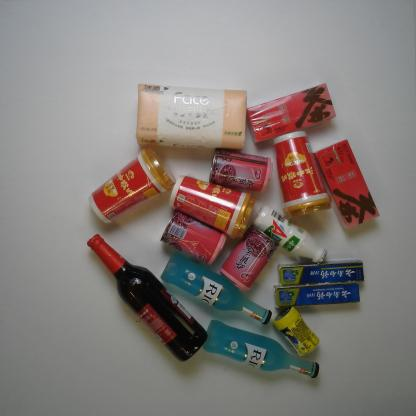Alcohol: (86, 233, 209, 364), (160, 250, 272, 326), (202, 318, 320, 380)
Canned Food: (218, 223, 281, 293), (159, 209, 228, 266), (207, 147, 274, 195)
Gum: (271, 305, 321, 358)
Instant Drink: (87, 144, 177, 225), (313, 137, 381, 231), (168, 174, 258, 241), (246, 82, 338, 145), (272, 130, 333, 220)
Milk: (250, 202, 329, 266)
Personal Hygiene: (276, 258, 365, 287), (273, 281, 361, 309)
Tissue: (135, 82, 248, 151)
